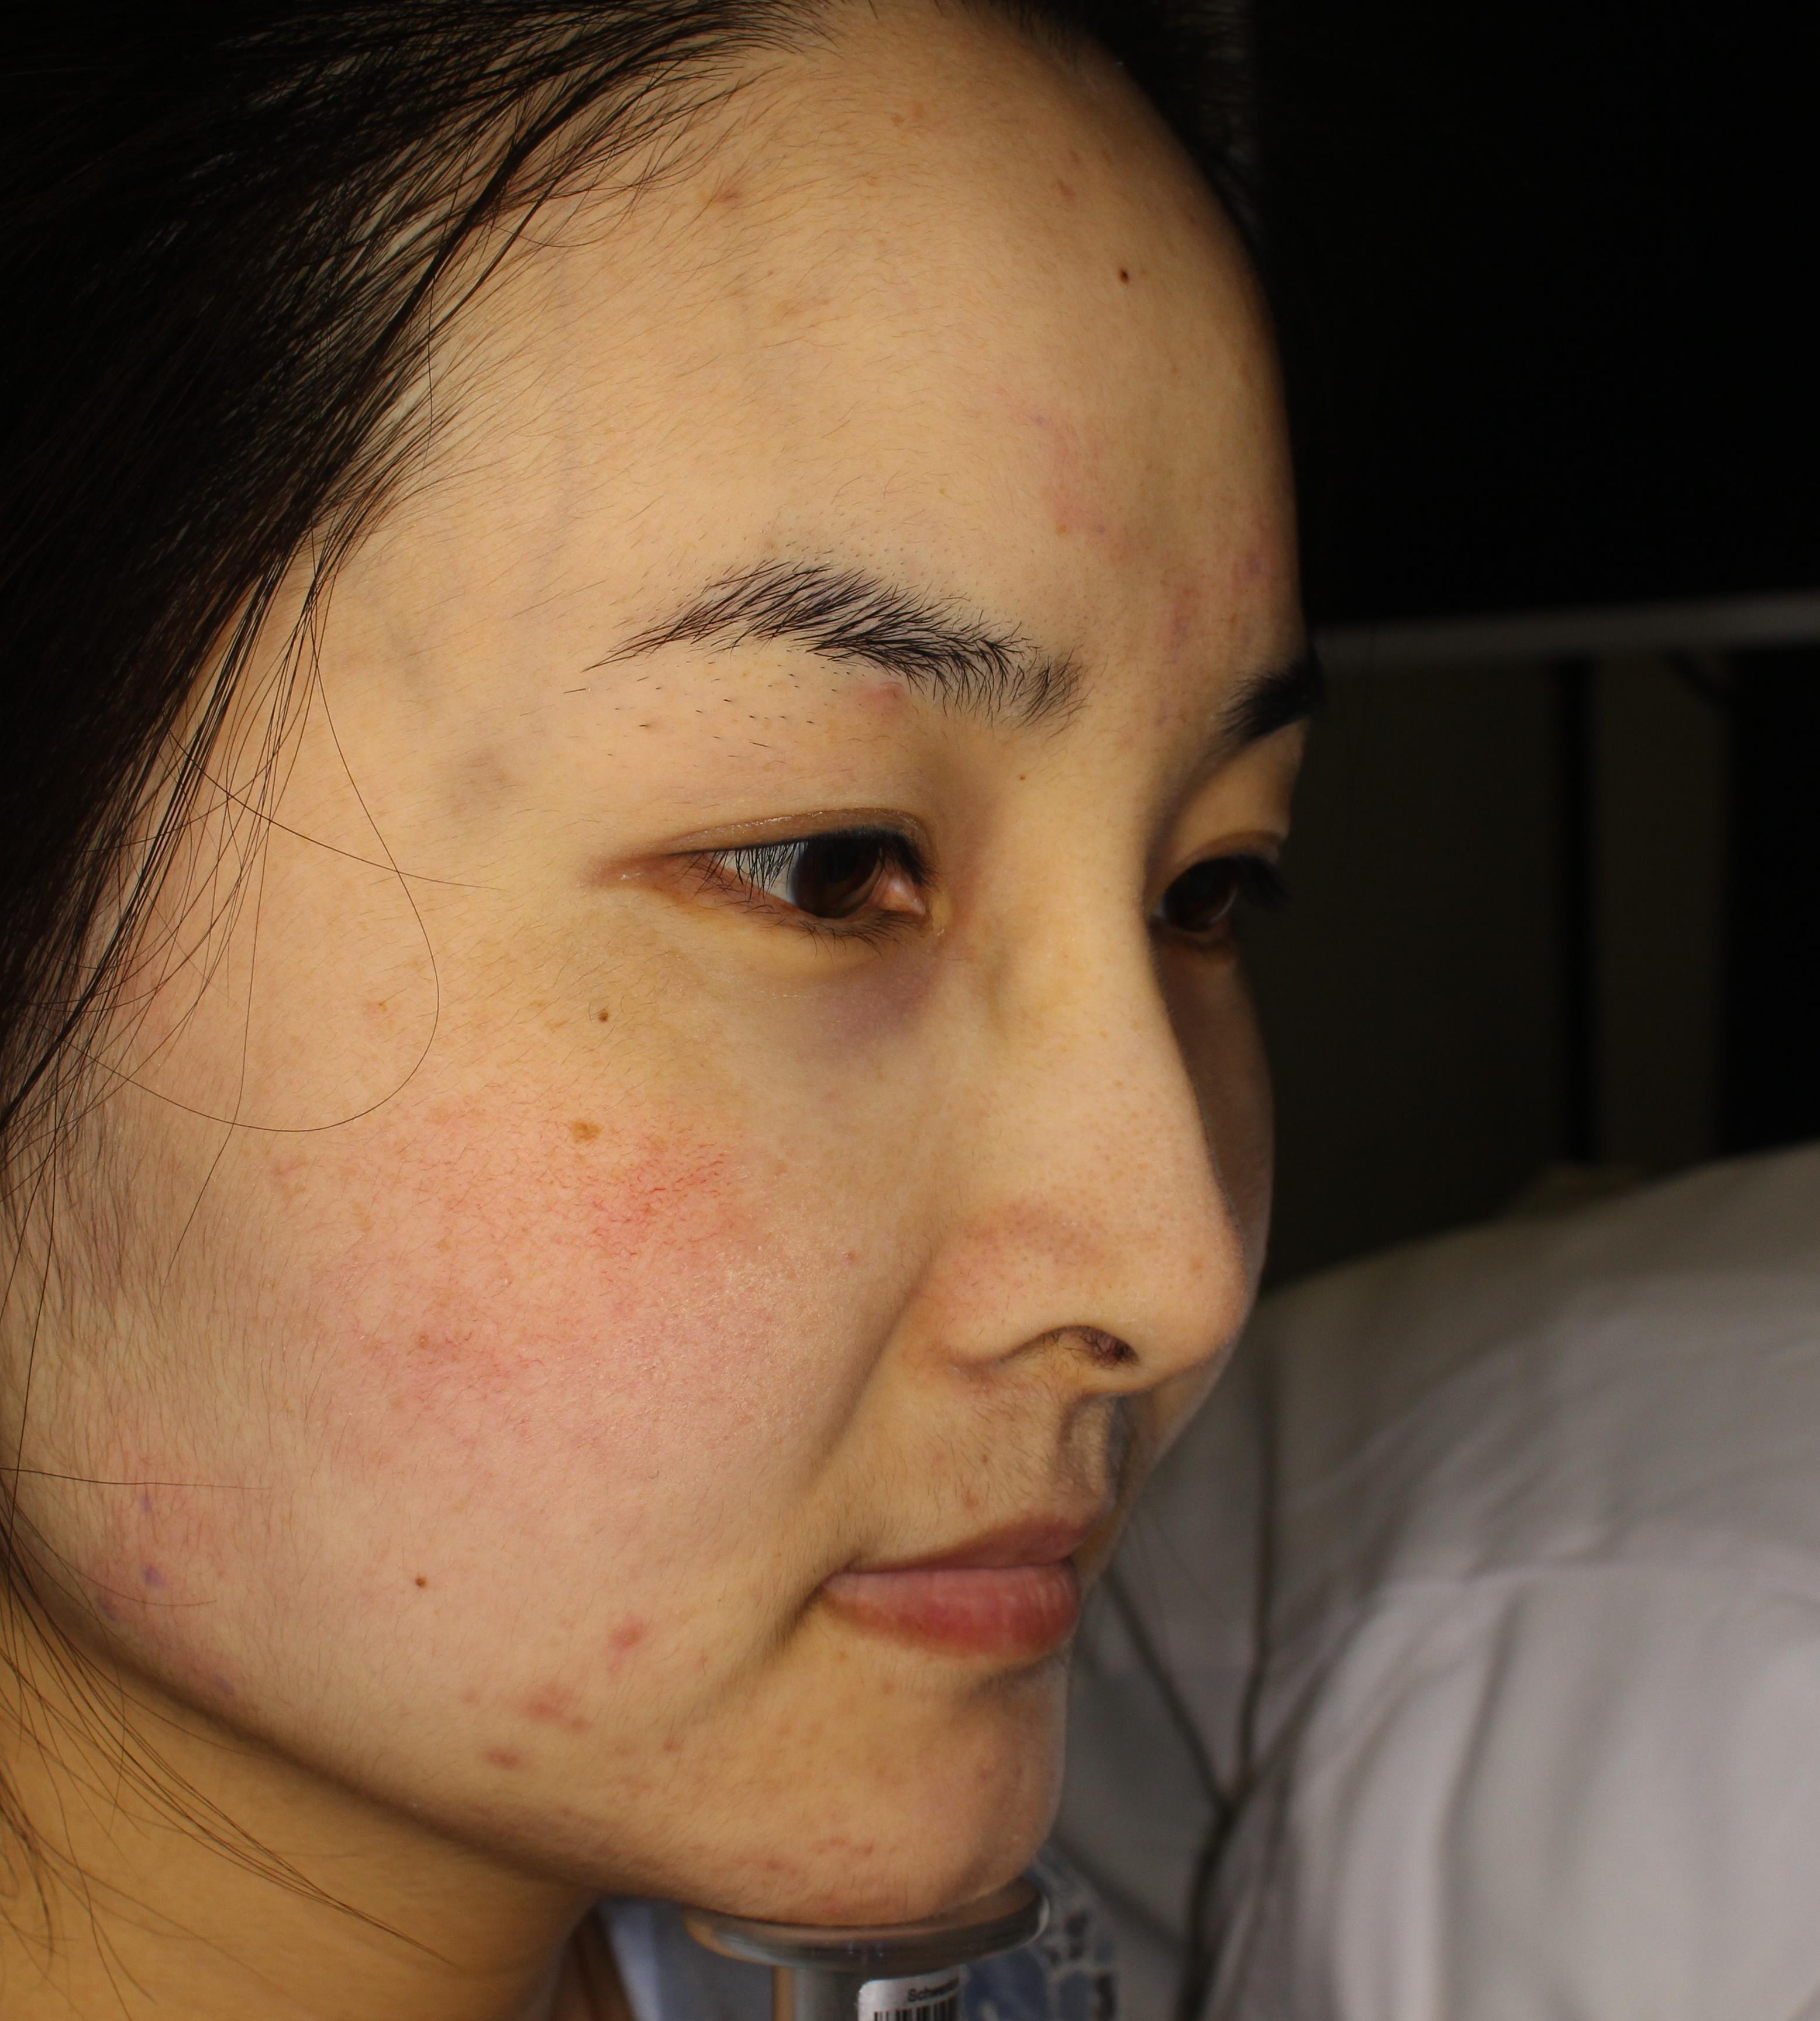fore: (583, 1603, 661, 1679), (508, 1693, 583, 1745), (471, 1742, 580, 1773)
